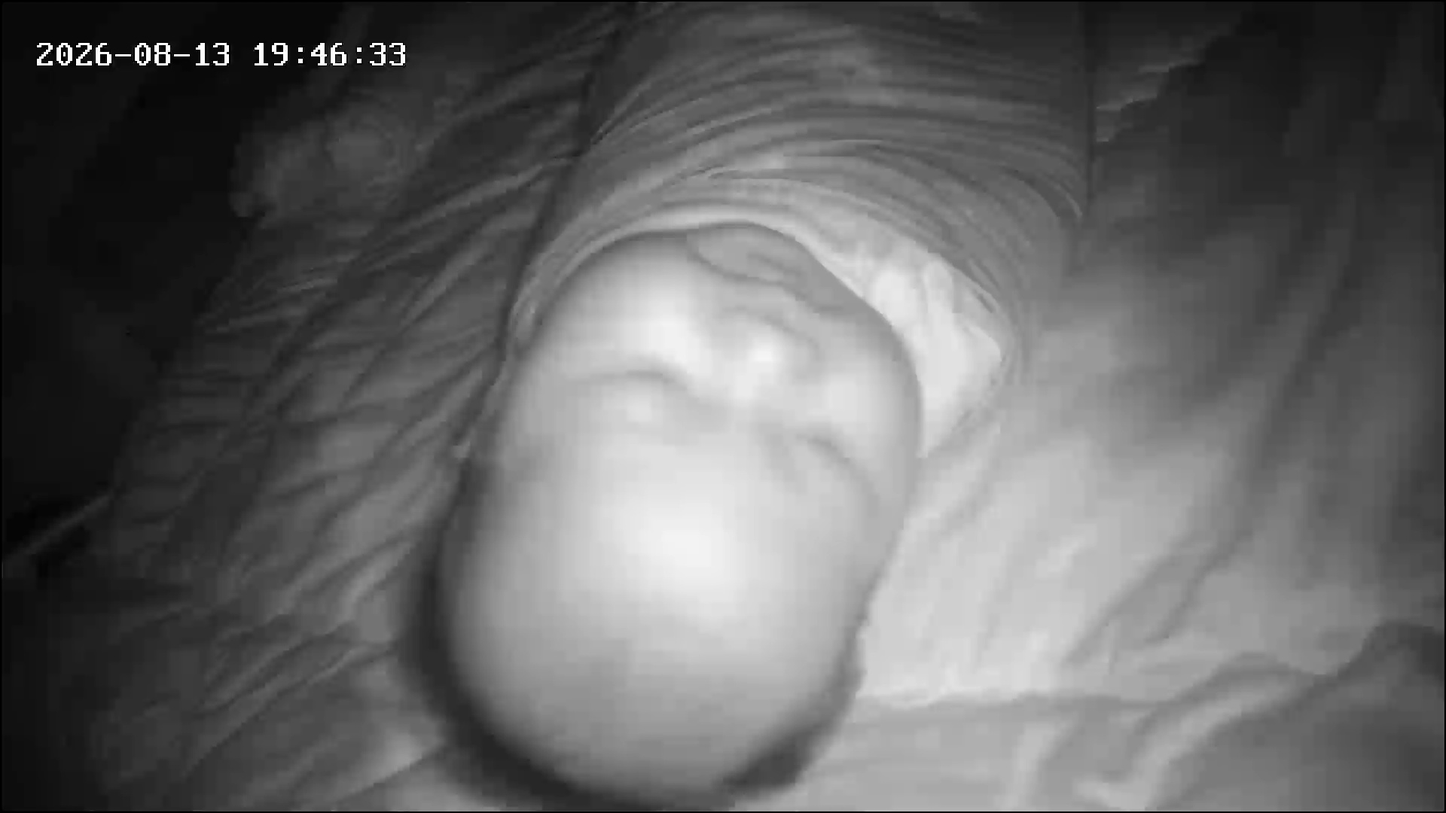baby: (397, 0, 1122, 807)
baby_face: (400, 221, 951, 811)
